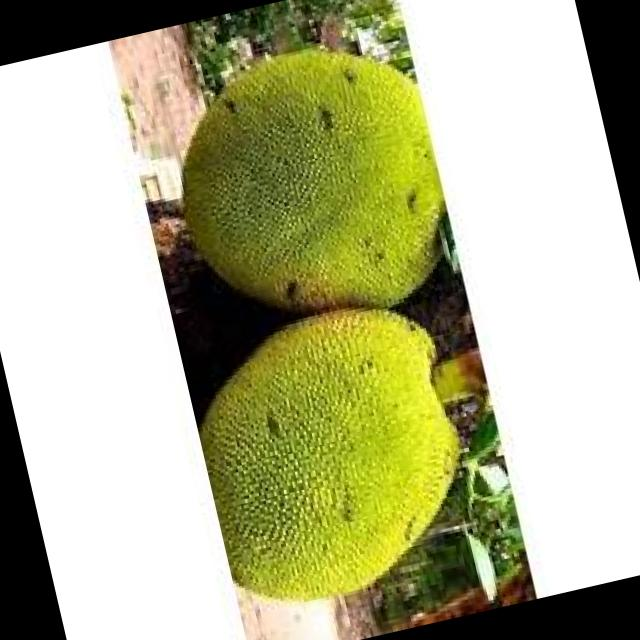Fruit: (170, 267, 510, 640), (142, 2, 468, 364)
